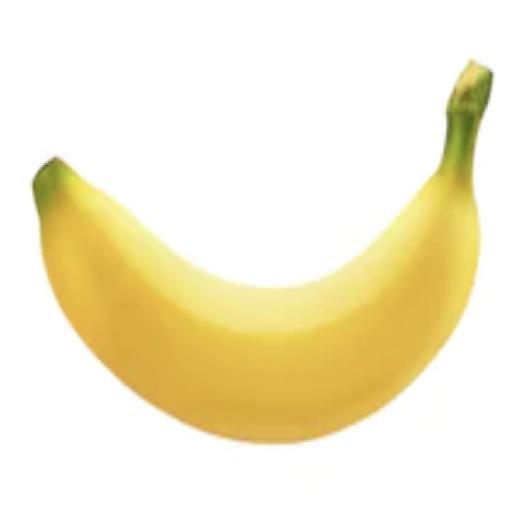banana: (34, 61, 492, 441)
